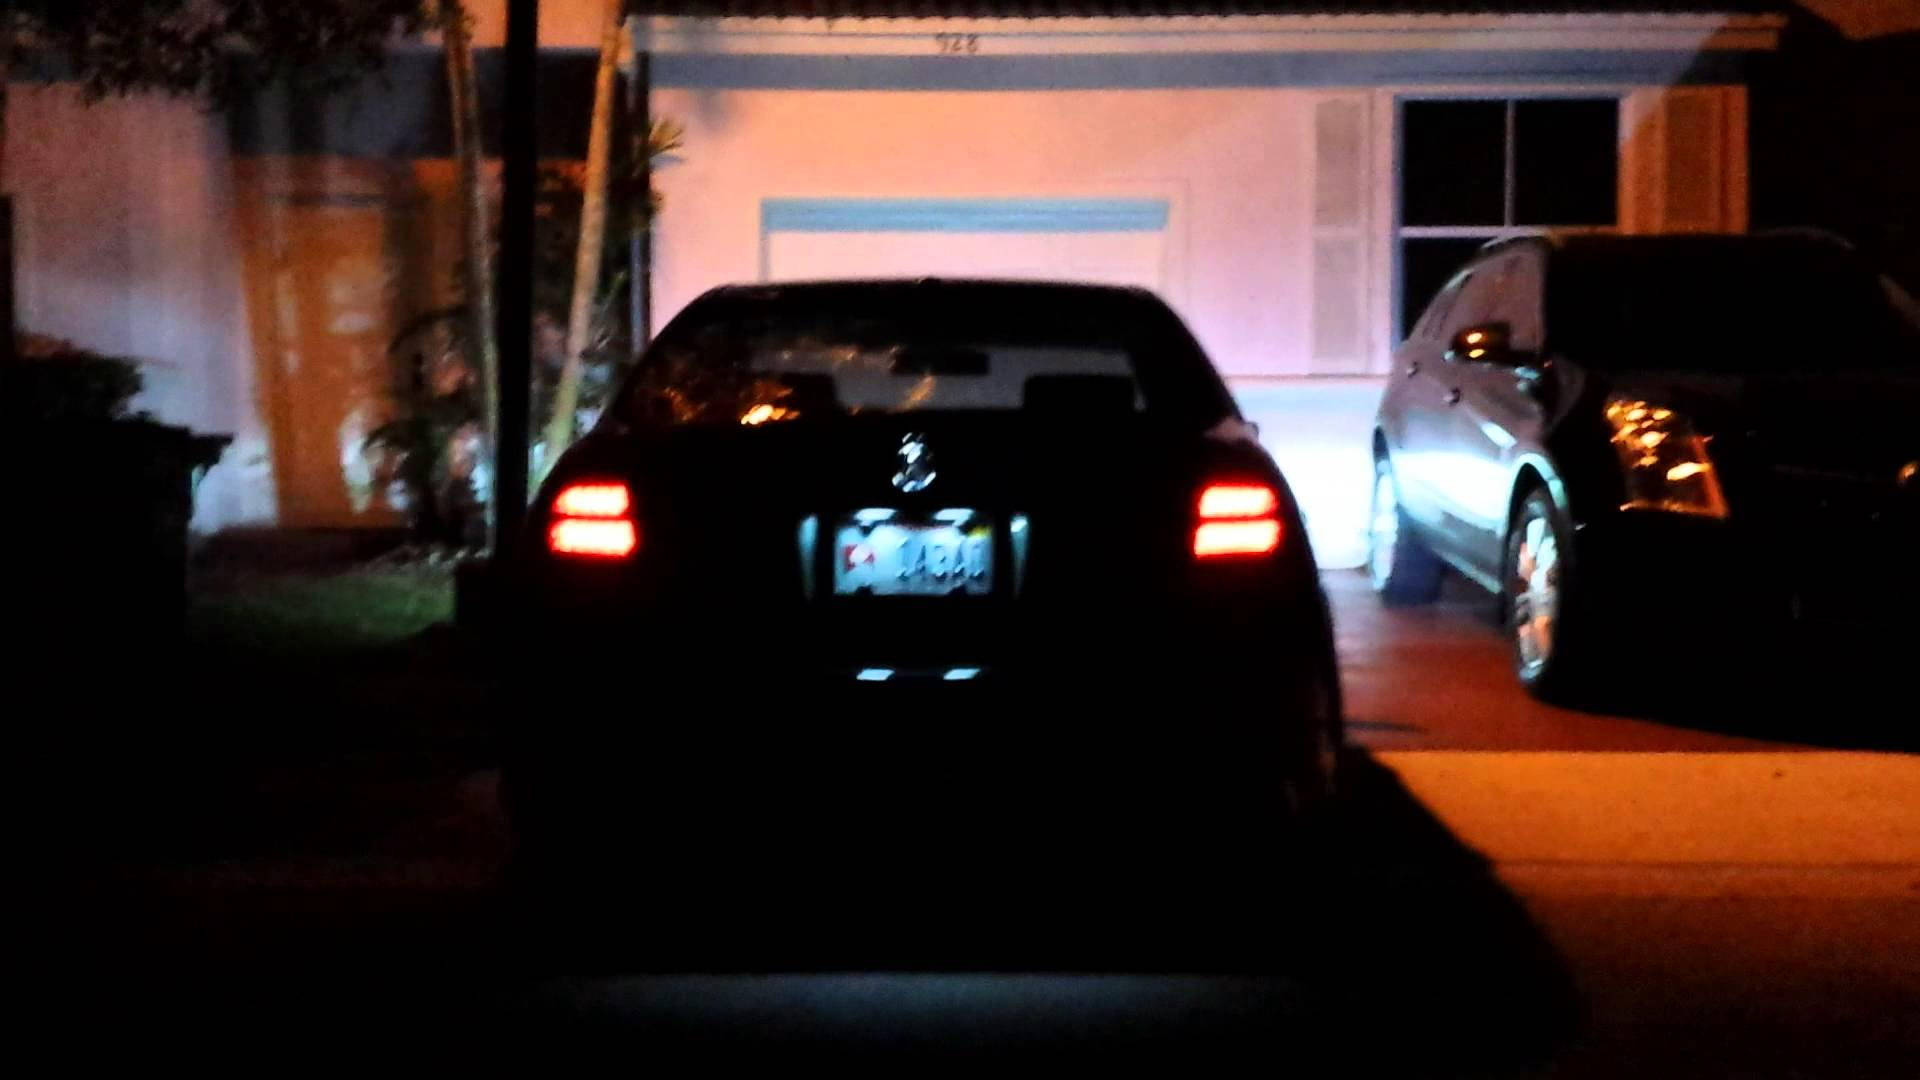car: (483, 262, 1360, 880)
